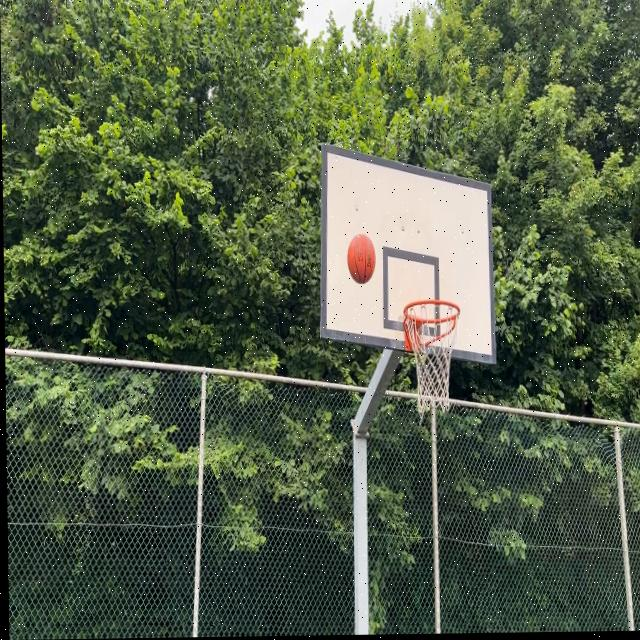Basketball: (347, 234, 377, 286)
